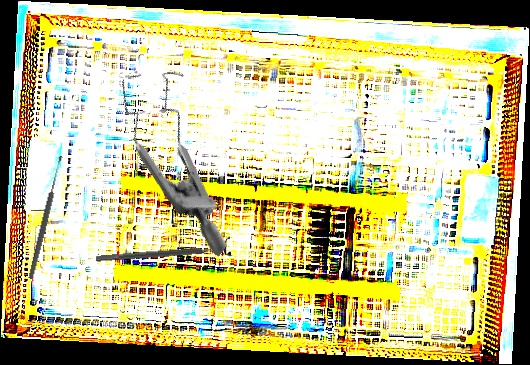Fixation Ring: (95, 236, 232, 269)
Speculum: (71, 48, 293, 257)
Surgical Spoon: (27, 155, 65, 280)
